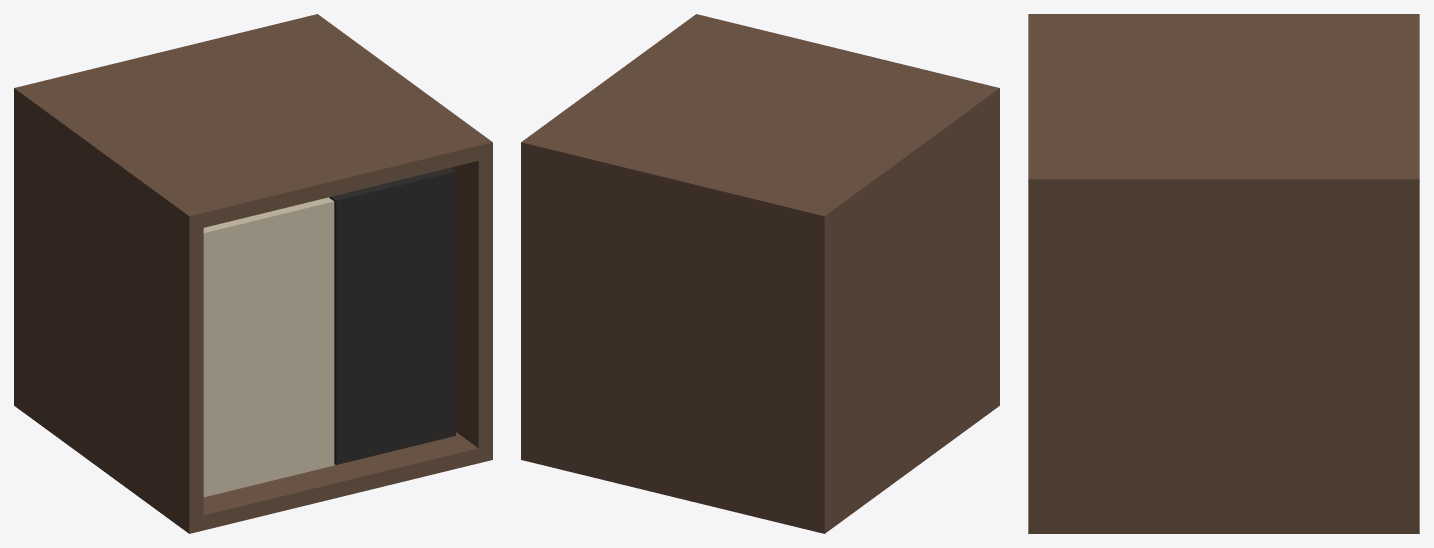
Rendered from record-cube.glb.
3 renders of one model, left to right at view 1: azimuth 30°, elevation 25°; view 2: azimuth 150°, elevation 25°; view 3: azimuth 270°, elevation 25°, orthographic. The views are drawn at different scales.
Parts seen in each view (by area): view 1: wood, paper, plastic-dark; view 2: wood; view 3: wood.
Part boxes in pixels (x1,y1,x2,y2): wood: [14, 14, 492, 533]; paper: [203, 197, 334, 497]; plastic-dark: [329, 167, 455, 464]; wood: [521, 14, 999, 533]; wood: [1028, 14, 1419, 533].
Size of the model in its own units: 0.38 by 0.38 by 0.38.
